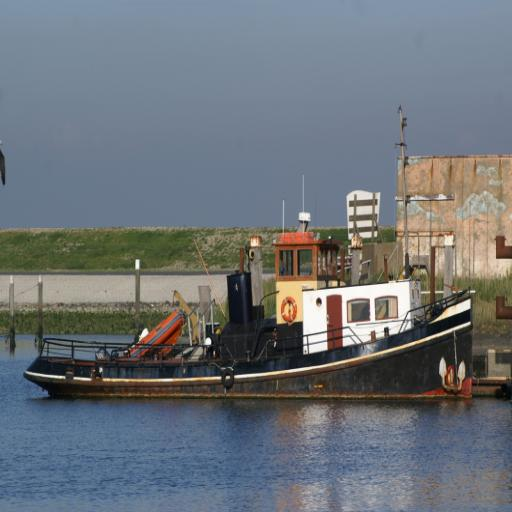tugboat: (22, 172, 479, 420)
